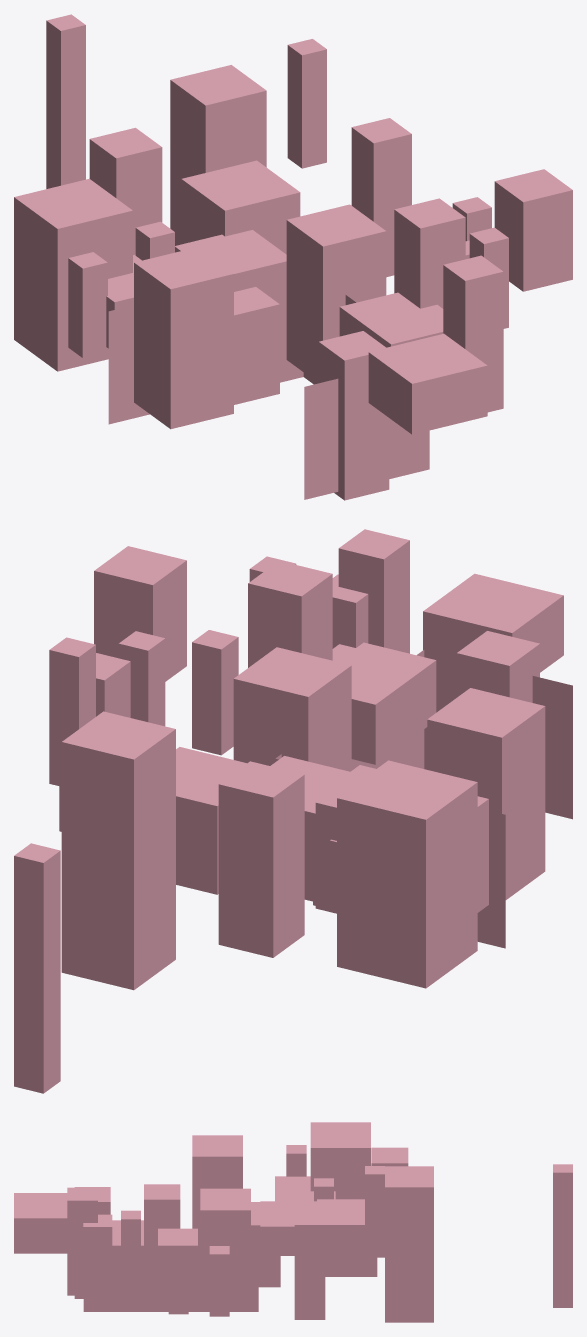
Rendered from ApartmentCitySkyline.fbx.
The picture shows the model from 3 angles, top to bottom: view 1: azimuth 30°, elevation 25°; view 2: azimuth 150°, elevation 25°; view 3: azimuth 270°, elevation 25°; orthographic projection. The views are drawn at different scales.
Visible parts, largest first — view 1: ApartmentCitySkyline; view 2: ApartmentCitySkyline; view 3: ApartmentCitySkyline.
Part boxes in pixels (<box>): ApartmentCitySkyline: <box>14,14,572,500</box>; ApartmentCitySkyline: <box>14,529,572,1093</box>; ApartmentCitySkyline: <box>14,1122,572,1322</box>.
Size of the model in its own units: 9699 by 5747 by 16689.
